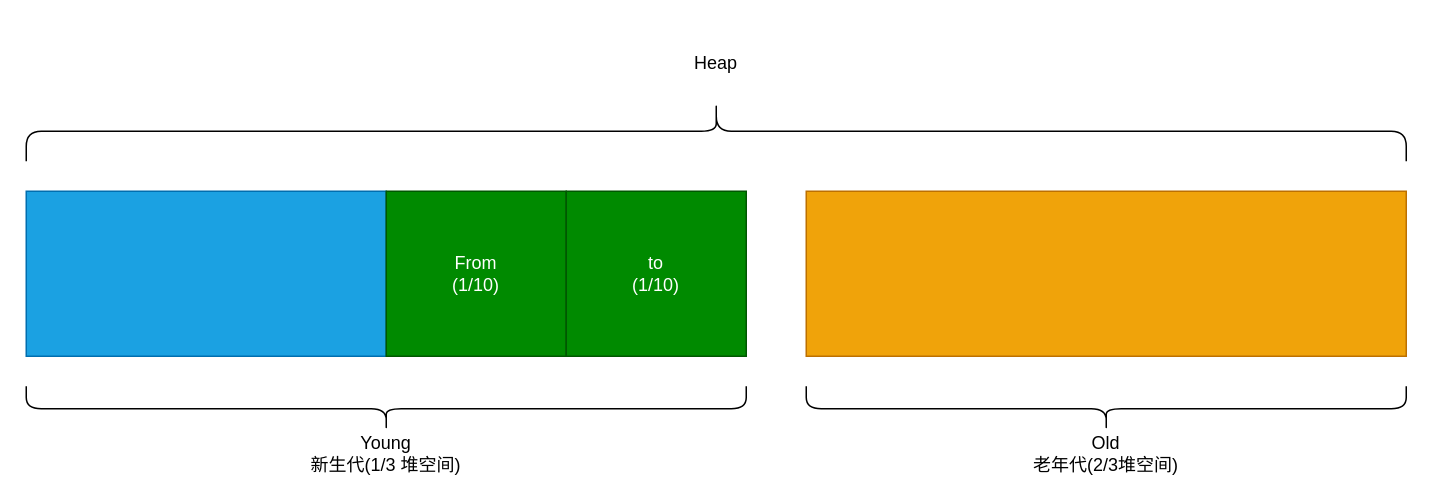
Some shapes in this 1433 by 501 pixel diagram are drawn without their labels. Here are the shapes that lost their labels. From the top down, the centre of each, then its label:
At pixel 205 273: "Eden (8/10)".
At pixel 1105 273: "Old 区".
